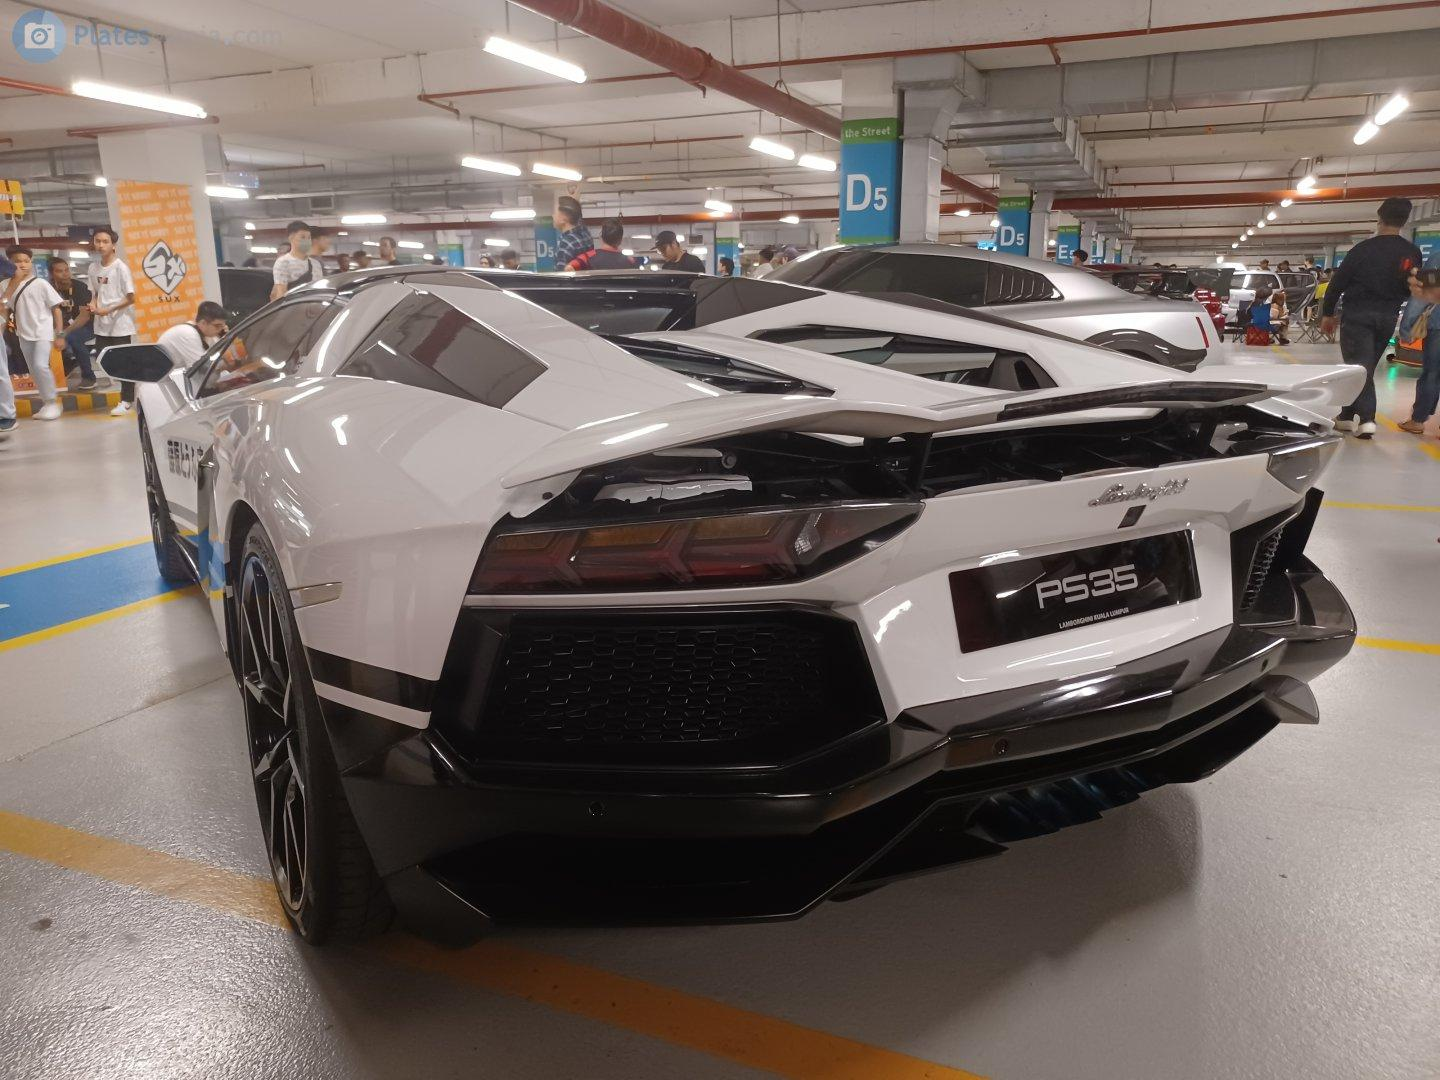License Plate: (955, 528, 1204, 653)
